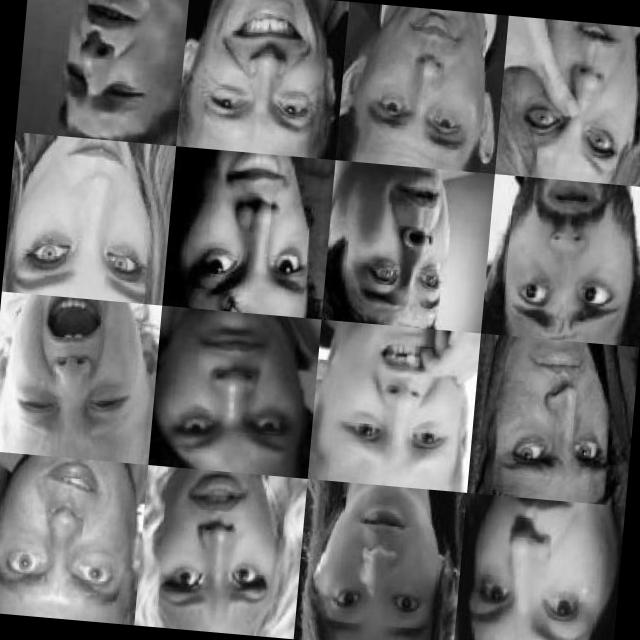angry: (160, 314, 310, 470), (0, 454, 139, 617)
fear: (143, 467, 290, 631), (322, 326, 468, 482), (502, 178, 628, 340), (312, 487, 443, 640), (347, 165, 458, 318)
happy: (10, 136, 164, 302), (175, 149, 319, 314), (192, 0, 330, 141)
neutral: (457, 495, 612, 640), (356, 3, 482, 160)
sad: (504, 16, 640, 183), (6, 294, 141, 454), (490, 339, 620, 497), (50, 0, 168, 130)
